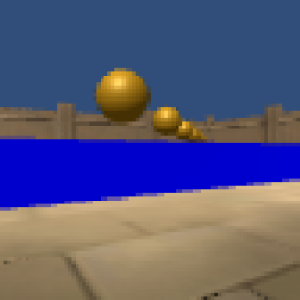goodGoalMulti: (95, 66, 151, 121), (153, 106, 180, 134), (180, 121, 193, 139), (195, 129, 206, 142)
platform: (1, 141, 300, 201)
